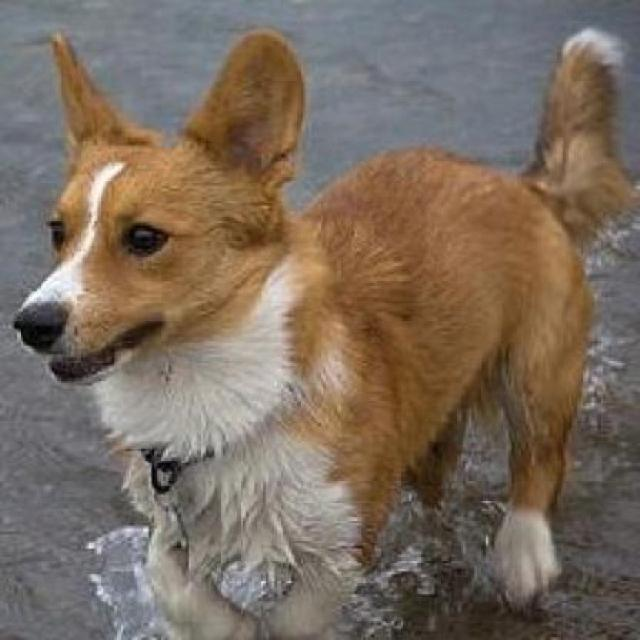Dog: (11, 27, 638, 638)
